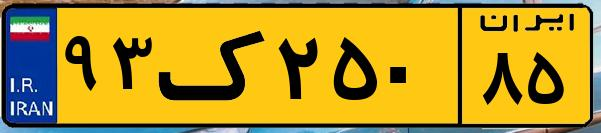0: (385, 28, 445, 110)
2: (270, 28, 330, 110)
3: (110, 28, 158, 98)
5: (330, 28, 385, 110), (525, 38, 570, 115)
8: (475, 38, 525, 113)
9: (57, 26, 110, 100)
ک: (158, 12, 270, 120)
